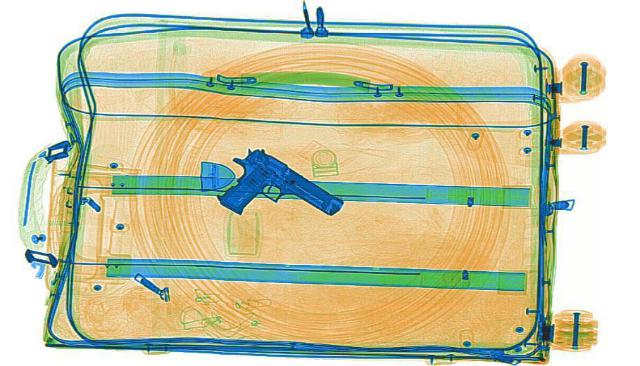Gun: (176, 143, 350, 237)
